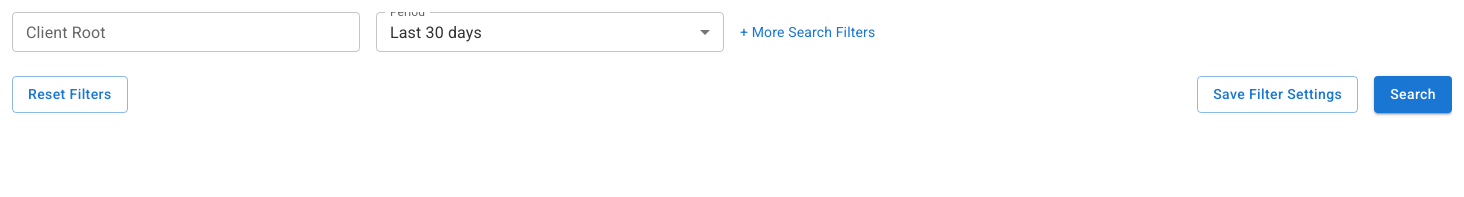
AgreementFilters › shows more filters when toggled
Click the button "+ More Search Filters".
click(808, 32)  # box [740,22,875,42]
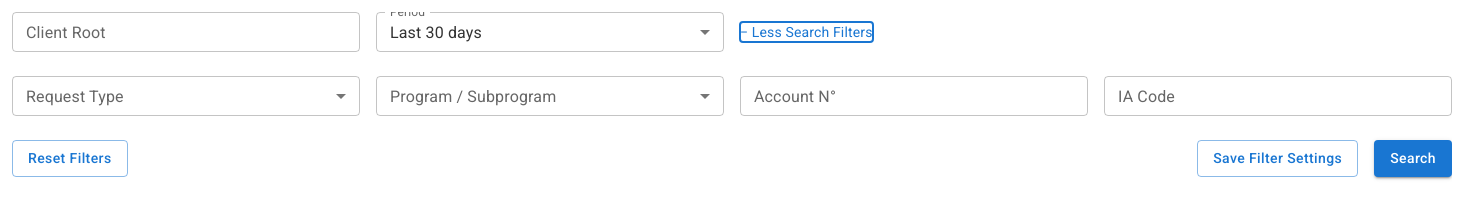
expect the text "Request Type" is shown: met, box [26,85,124,108]
